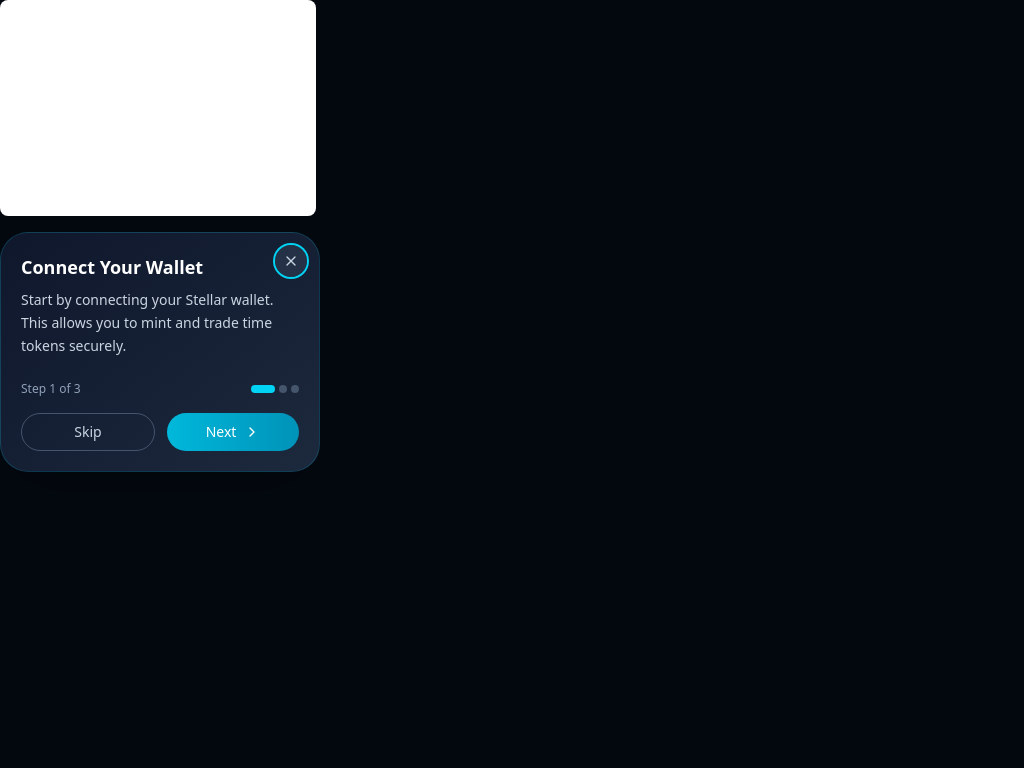
Test case: OnboardingTour › should navigate using progress dots
Click the button named "Go to step": (295, 389) x1=291 y1=385 x2=299 y2=393
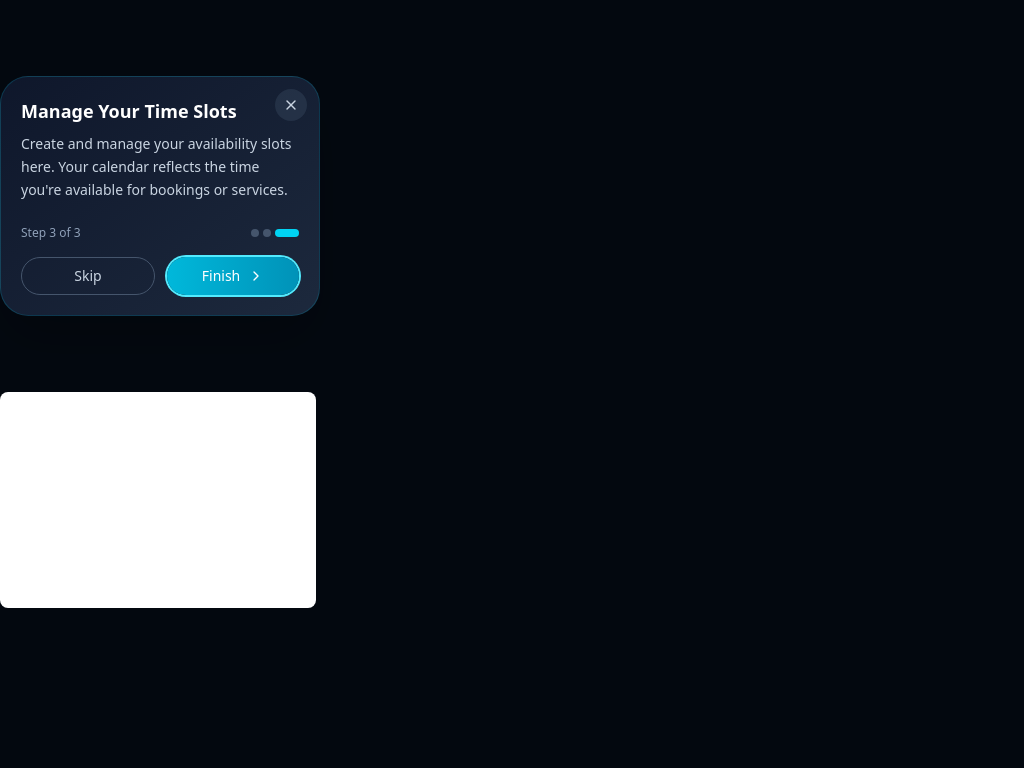
Result: the heading "Manage Your Time Slots" is shown at x1=21 y1=99 x2=237 y2=123
